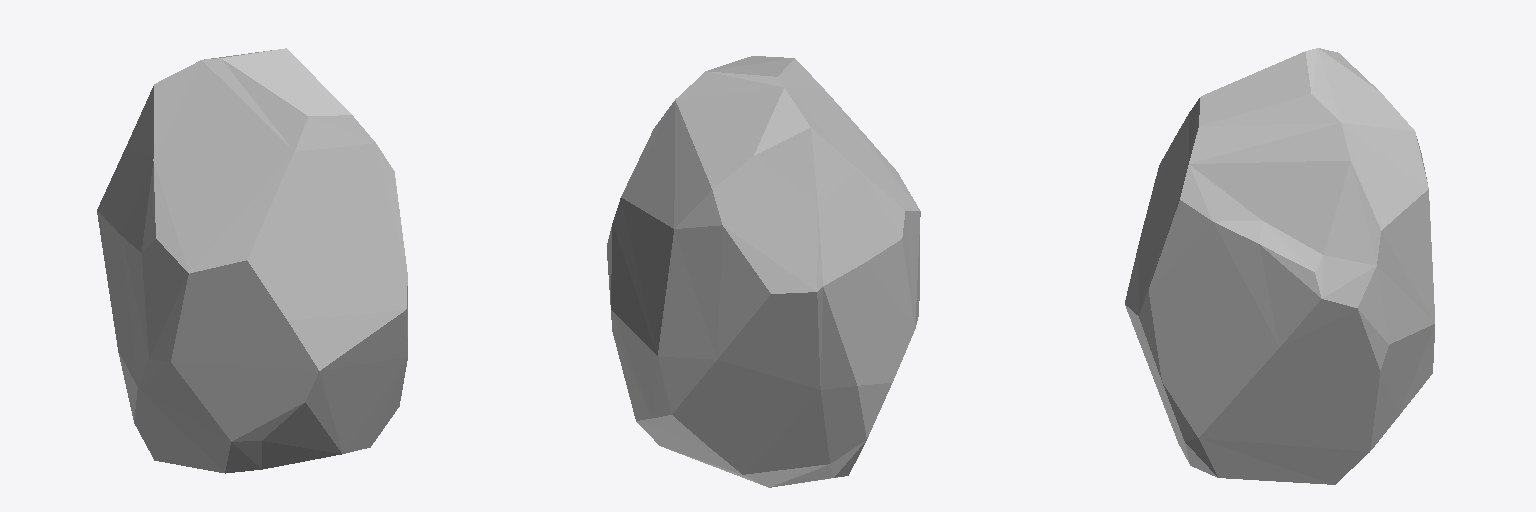
File: rock5.obj
3 views of the same model, side by side, from view 1: azimuth 30°, elevation 25°; view 2: azimuth 150°, elevation 25°; view 3: azimuth 270°, elevation 25° (orthographic).
Visible parts, largest first — view 1: Stone_11_Sphere.003; view 2: Stone_11_Sphere.003; view 3: Stone_11_Sphere.003.
Boxes of the visible parts, x1,y1,x2,y2 form: Stone_11_Sphere.003: [97, 48, 407, 473]; Stone_11_Sphere.003: [607, 56, 920, 487]; Stone_11_Sphere.003: [1125, 48, 1434, 484].
Size of the model in its own units: 2.65 by 3.87 by 2.81.